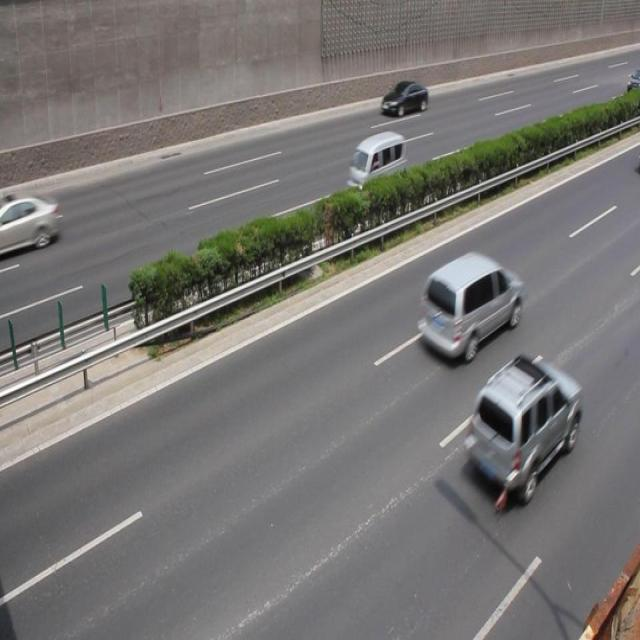car: (461, 353, 581, 505), (1, 192, 58, 255), (379, 78, 428, 118)
truck: (415, 251, 522, 363), (345, 131, 405, 201)
